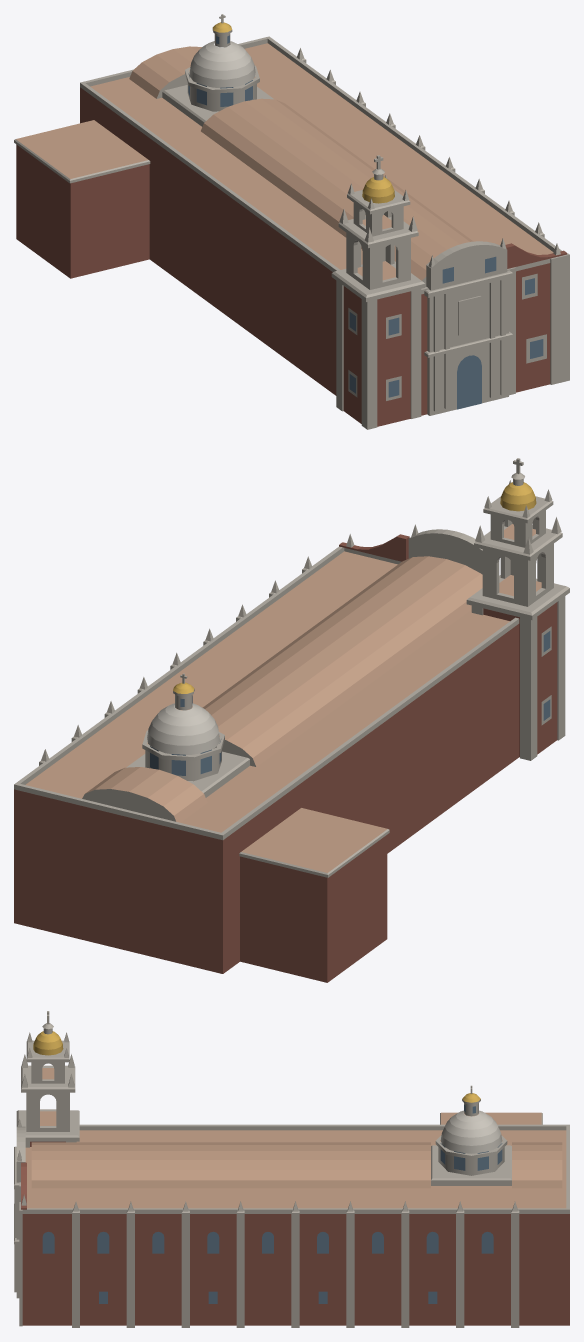
File: mexico-city-santo-domingo.glb
3 views of the same model, one above another, from view 1: azimuth 30°, elevation 25°; view 2: azimuth 150°, elevation 25°; view 3: azimuth 270°, elevation 25° (orthographic). The views are drawn at different scales.
Parts seen in each view (by area): view 1: Templo de Santo Domingo; view 2: Templo de Santo Domingo; view 3: Templo de Santo Domingo.
Part boxes in pixels (x1,y1,x2,y2): Templo de Santo Domingo: (14,14,569,429); Templo de Santo Domingo: (14,458,569,982); Templo de Santo Domingo: (14,1011,569,1327).
Bounding box in the file's own units: 38.9 × 34.6 × 73.95.
